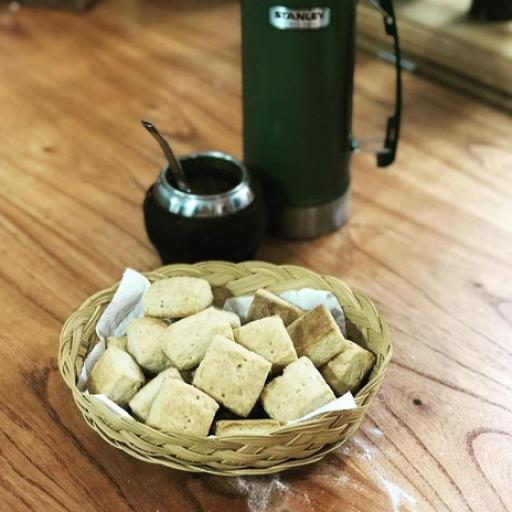bolleria: (88, 277, 375, 436)
mate: (134, 126, 268, 261)
termo: (243, 0, 350, 238)
